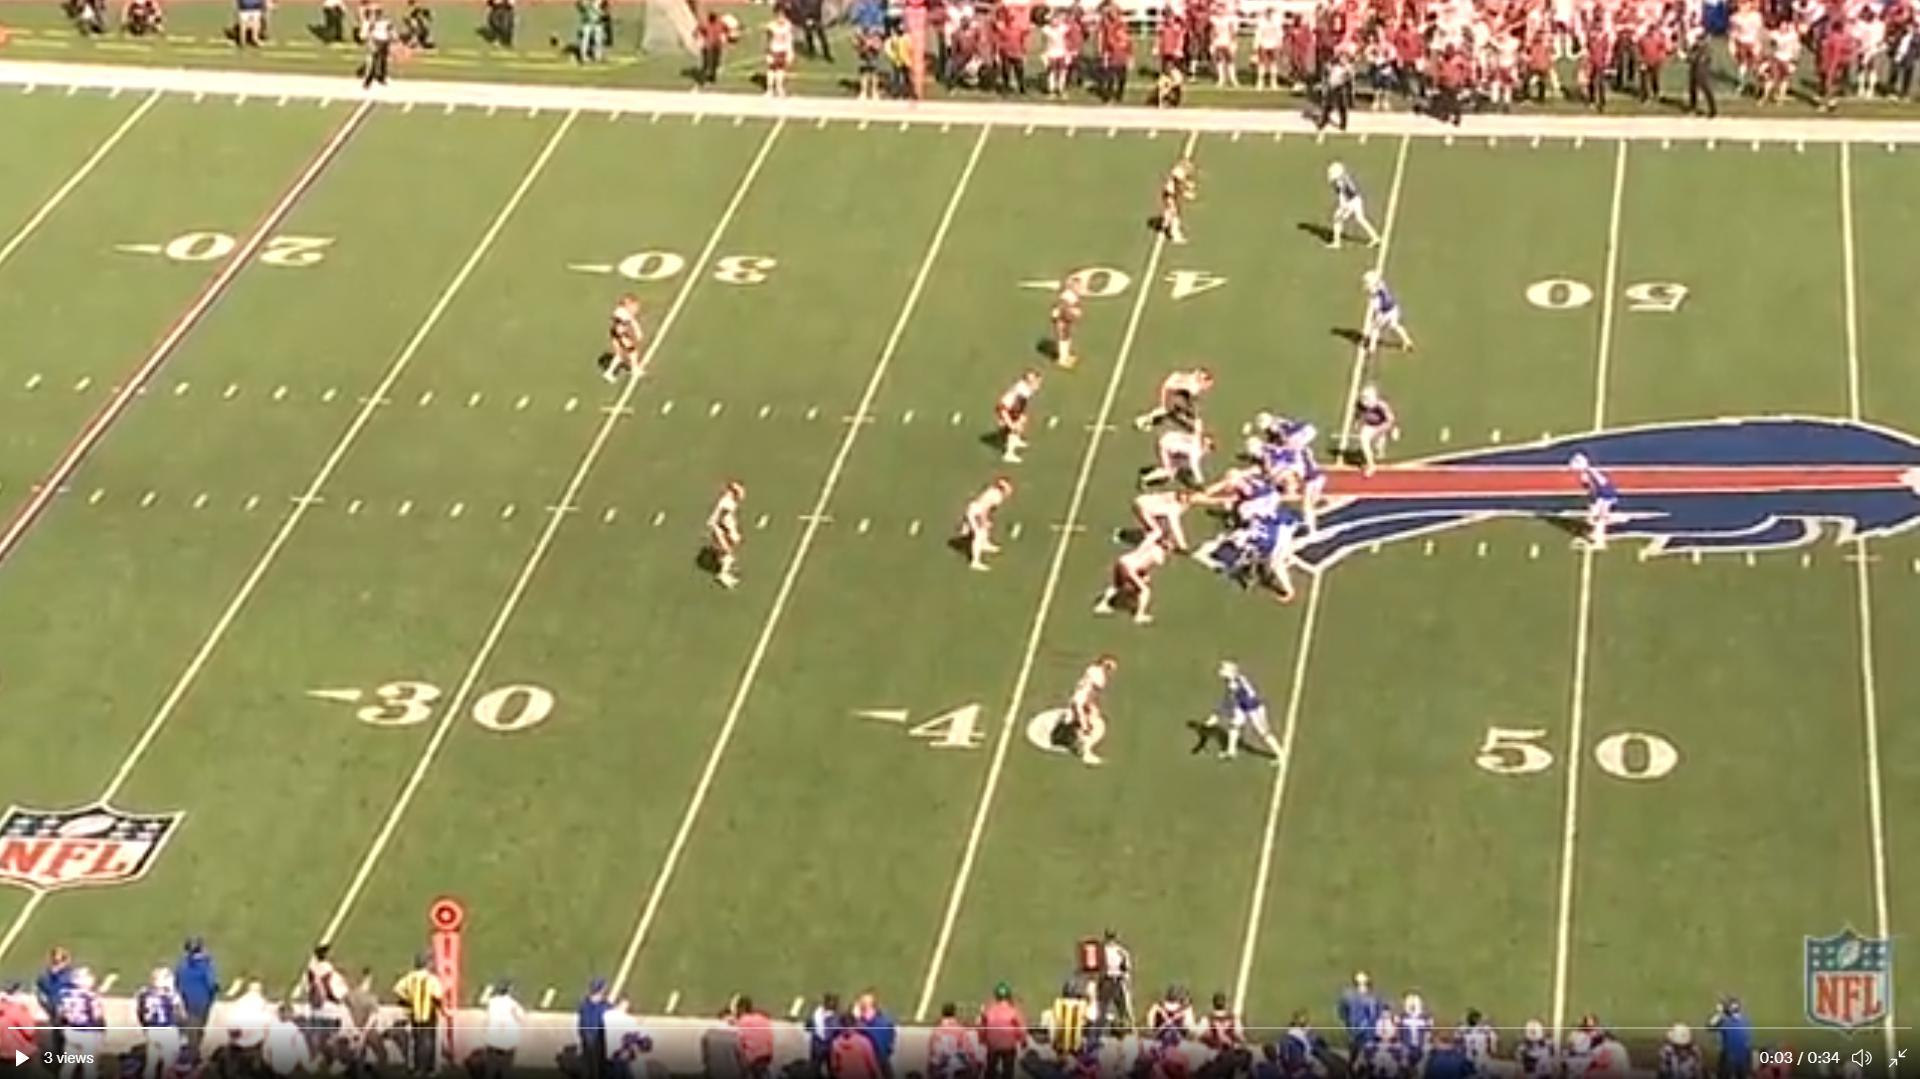player: (1207, 657, 1292, 771), (1095, 536, 1176, 628), (698, 478, 758, 594), (953, 478, 1018, 578), (1325, 158, 1390, 254), (1066, 652, 1118, 770), (1350, 270, 1415, 364), (1230, 522, 1299, 606), (1134, 364, 1218, 432), (1343, 381, 1399, 481), (996, 369, 1048, 469), (1136, 430, 1213, 497), (1283, 430, 1327, 543), (1119, 493, 1195, 557), (601, 293, 652, 388), (1579, 448, 1624, 552), (1152, 159, 1201, 250), (1049, 276, 1092, 371), (1252, 410, 1317, 466), (1227, 467, 1286, 519), (1248, 437, 1308, 488), (1235, 498, 1300, 542)
ref: (1075, 923, 1142, 1042), (355, 7, 402, 99), (1317, 48, 1364, 137)
